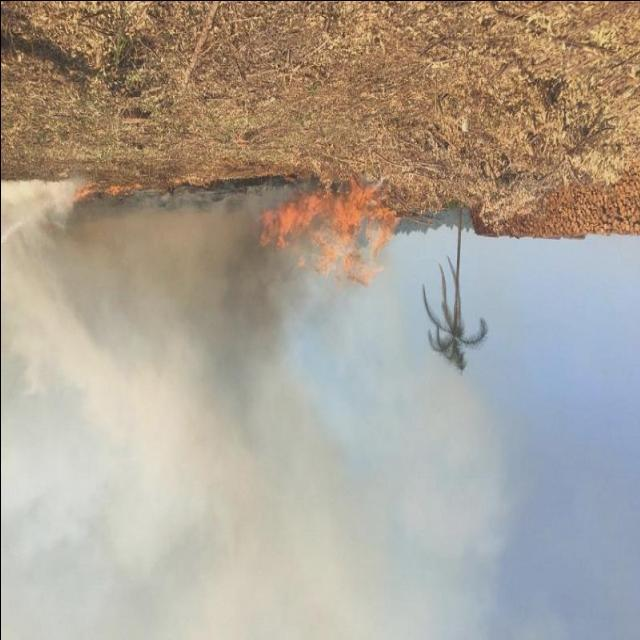Fire: (258, 181, 396, 283)
